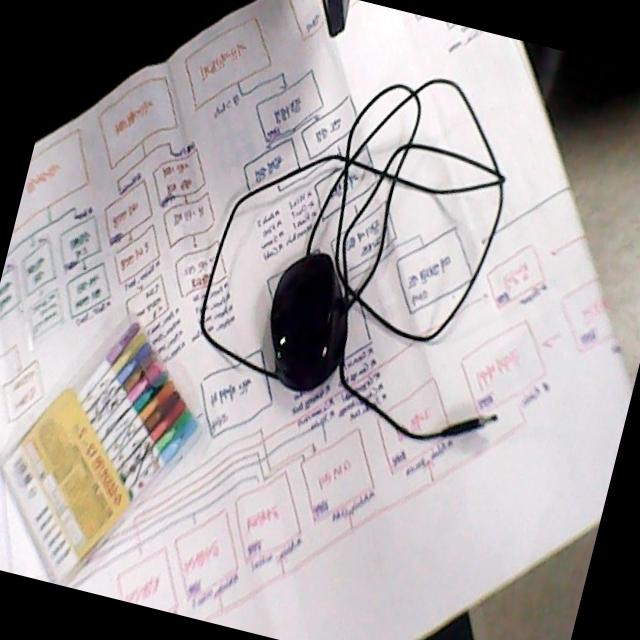mouse: (262, 245, 352, 401)
signpen: (0, 311, 215, 585)
